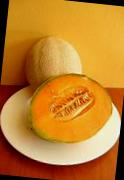Melon Ripe: (28, 70, 116, 148)
